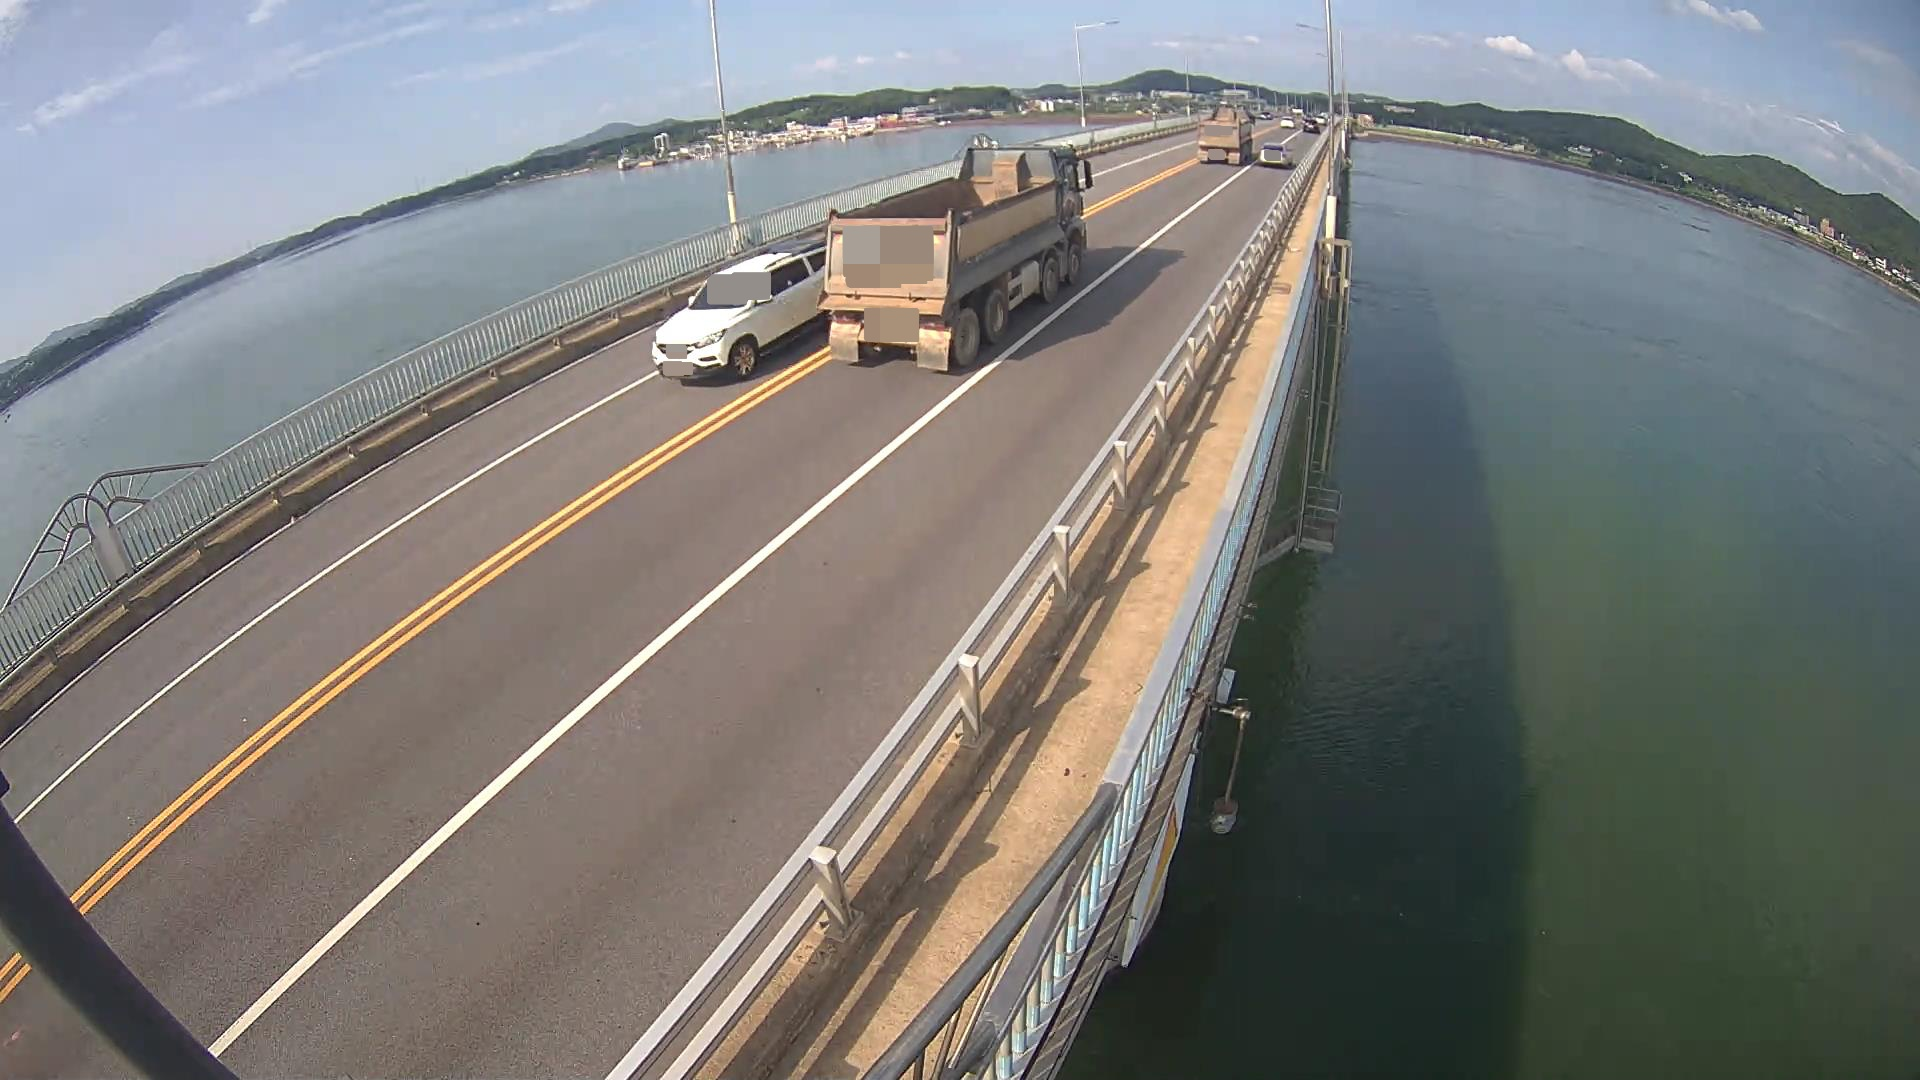정상차량: (815, 144, 1093, 371)
